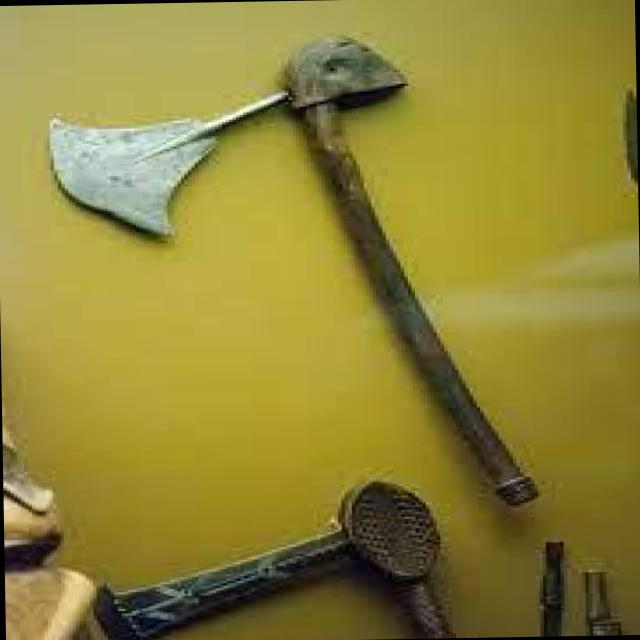Gun: (34, 15, 558, 532), (101, 467, 491, 640)
